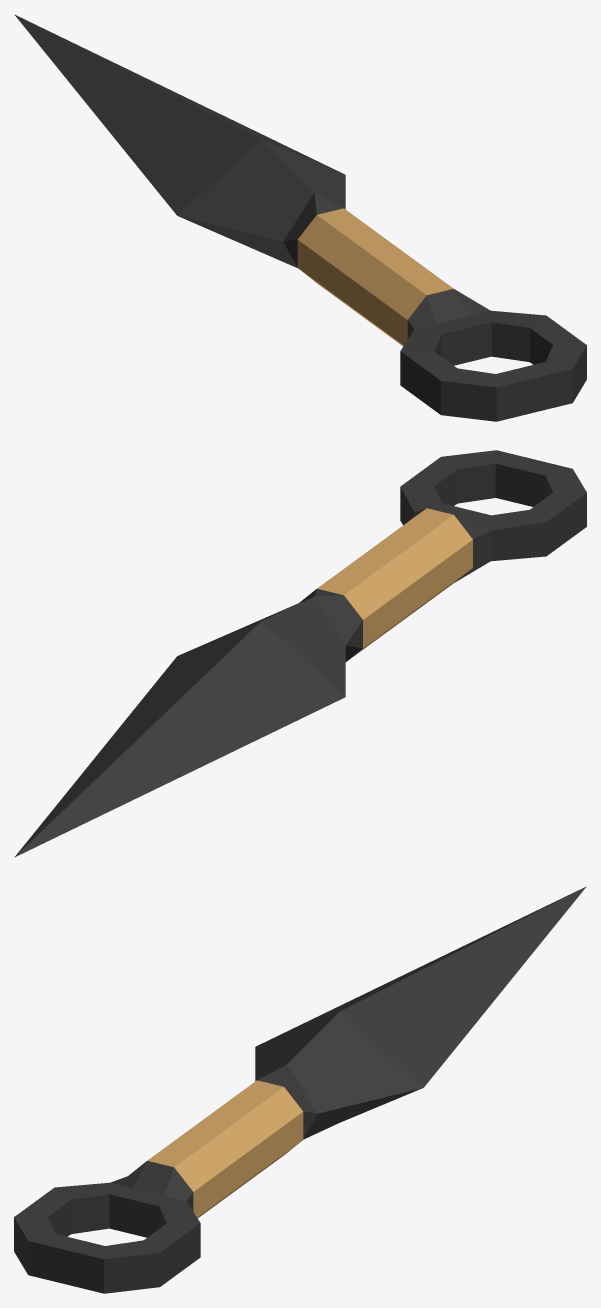
File: Kunai - Textured Low Poly Asian Weapon Pack by Kickin It Studios.fbx
The picture shows the model from 3 angles, top to bottom: view 1: azimuth 30°, elevation 25°; view 2: azimuth 150°, elevation 25°; view 3: azimuth 330°, elevation 25°; orthographic projection.
Parts seen in each view (by area): view 1: Kunai; view 2: Kunai; view 3: Kunai.
Boxes of the visible parts, bbox=[...] form: Kunai: bbox=[14, 14, 586, 421]; Kunai: bbox=[14, 450, 586, 857]; Kunai: bbox=[14, 886, 586, 1293].
Bounding box in the file's own units: 60.74 × 38.34 × 325.
